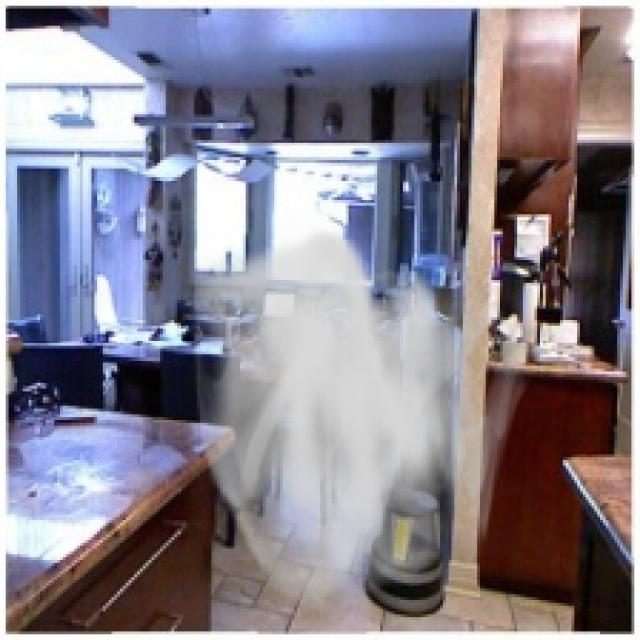smoke: (183, 226, 534, 617)
